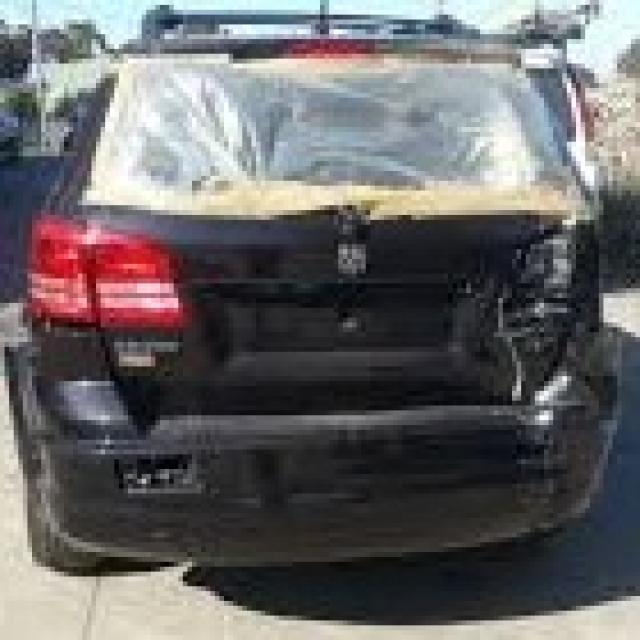moderate: (29, 158, 617, 440)
